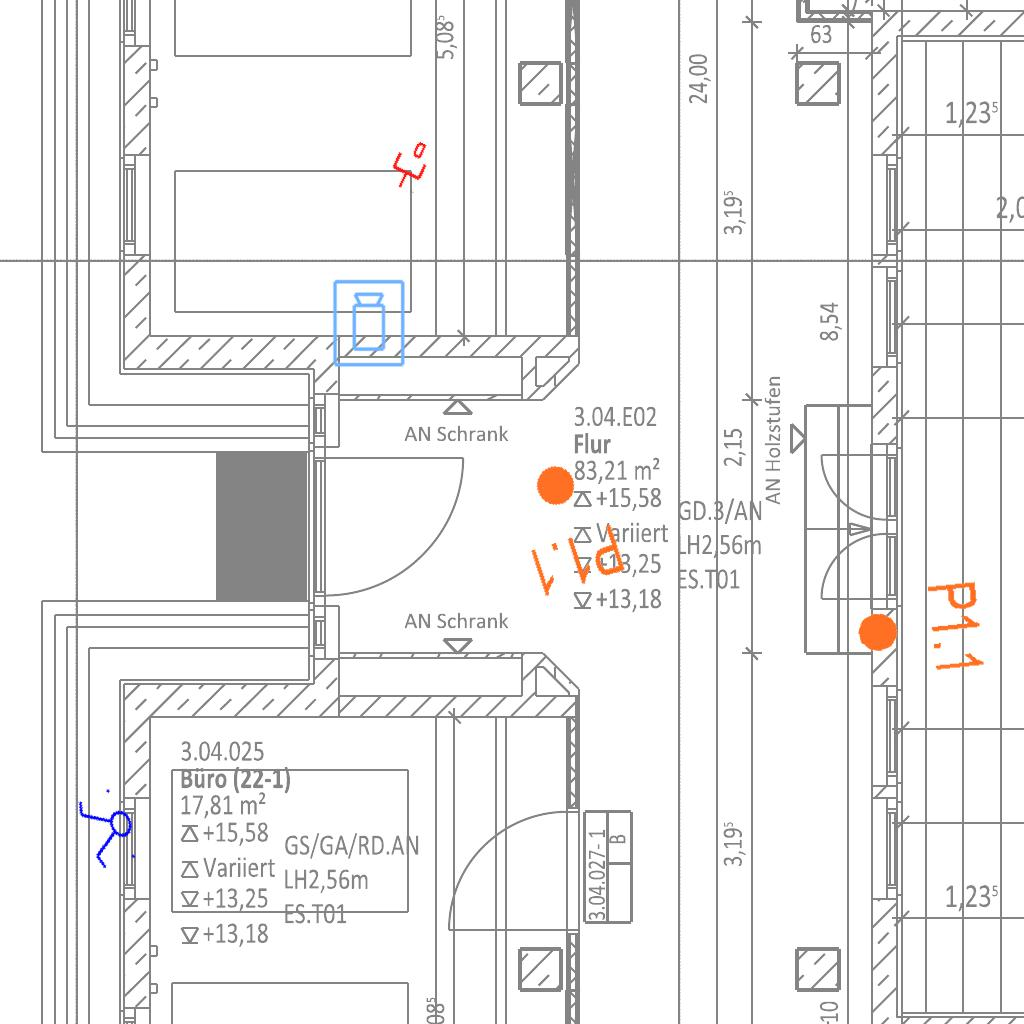Datenanschluss_einfach: (384, 135, 436, 195)
Downlight_LED_Einbauleuchten_Flur: (501, 450, 630, 602), (850, 578, 989, 684)
KFO_Kamera_mit_Festobjektiv: (331, 278, 408, 369)
Serienschalter: (71, 781, 147, 877)
